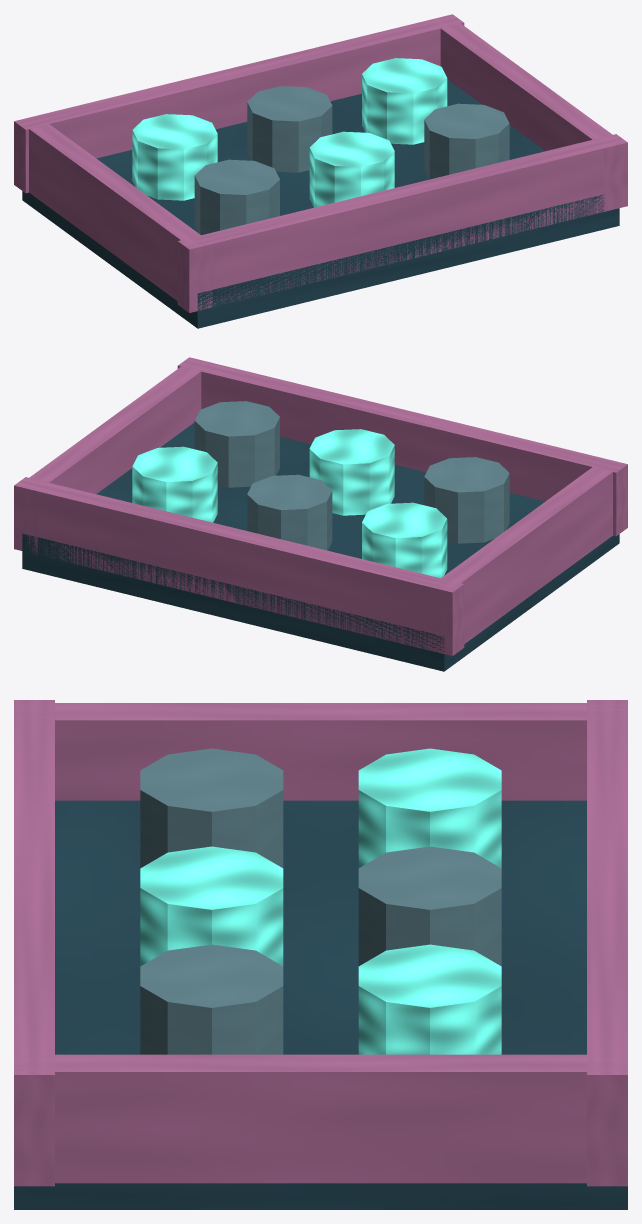
Rendered from atlas100-s061-a03.glb.
3 views of the same model, one above another, from view 1: azimuth 30°, elevation 25°; view 2: azimuth 150°, elevation 25°; view 3: azimuth 270°, elevation 25° (orthographic). The views are drawn at different scales.
Visible parts, largest first — view 1: atlas100-s061-a03:part-002, atlas100-s061-a03:part-000, atlas100-s061-a03:part-001, atlas100-s061-a03:part-003, atlas100-s061-a03:part-004, atlas100-s061-a03:part-005, atlas100-s061-a03:part-007, atlas100-s061-a03:part-006, atlas100-s061-a03:part-009, atlas100-s061-a03:part-010, atlas100-s061-a03:part-008; view 2: atlas100-s061-a03:part-001, atlas100-s061-a03:part-000, atlas100-s061-a03:part-002, atlas100-s061-a03:part-003, atlas100-s061-a03:part-004, atlas100-s061-a03:part-008, atlas100-s061-a03:part-010, atlas100-s061-a03:part-009, atlas100-s061-a03:part-006, atlas100-s061-a03:part-007, atlas100-s061-a03:part-005; view 3: atlas100-s061-a03:part-000, atlas100-s061-a03:part-004, atlas100-s061-a03:part-003, atlas100-s061-a03:part-001, atlas100-s061-a03:part-002, atlas100-s061-a03:part-007, atlas100-s061-a03:part-010, atlas100-s061-a03:part-005, atlas100-s061-a03:part-008, atlas100-s061-a03:part-006, atlas100-s061-a03:part-009.
Boxes of the visible parts, x1=… form: atlas100-s061-a03:part-002: x1=177, y1=134, x2=627, y2=312; atlas100-s061-a03:part-000: x1=22, y1=79, x2=619, y2=328; atlas100-s061-a03:part-001: x1=14, y1=14, x2=464, y2=193; atlas100-s061-a03:part-003: x1=29, y1=124, x2=212, y2=311; atlas100-s061-a03:part-004: x1=430, y1=15, x2=624, y2=211; atlas100-s061-a03:part-005: x1=132, y1=114, x2=217, y2=200; atlas100-s061-a03:part-007: x1=362, y1=58, x2=447, y2=144; atlas100-s061-a03:part-006: x1=247, y1=86, x2=332, y2=172; atlas100-s061-a03:part-009: x1=309, y1=131, x2=394, y2=207; atlas100-s061-a03:part-010: x1=424, y1=103, x2=509, y2=179; atlas100-s061-a03:part-008: x1=194, y1=159, x2=279, y2=235; atlas100-s061-a03:part-001: x1=14, y1=477, x2=464, y2=655; atlas100-s061-a03:part-000: x1=22, y1=422, x2=619, y2=671; atlas100-s061-a03:part-002: x1=177, y1=357, x2=627, y2=536; atlas100-s061-a03:part-003: x1=429, y1=467, x2=612, y2=654; atlas100-s061-a03:part-004: x1=17, y1=358, x2=211, y2=554; atlas100-s061-a03:part-008: x1=424, y1=457, x2=509, y2=543; atlas100-s061-a03:part-010: x1=194, y1=401, x2=279, y2=487; atlas100-s061-a03:part-009: x1=309, y1=429, x2=394, y2=515; atlas100-s061-a03:part-006: x1=247, y1=474, x2=332, y2=550; atlas100-s061-a03:part-007: x1=132, y1=446, x2=217, y2=522; atlas100-s061-a03:part-005: x1=362, y1=502, x2=447, y2=578; atlas100-s061-a03:part-000: x1=14, y1=800, x2=627, y2=1209; atlas100-s061-a03:part-004: x1=14, y1=1054, x2=627, y2=1183; atlas100-s061-a03:part-003: x1=14, y1=703, x2=627, y2=800; atlas100-s061-a03:part-001: x1=587, y1=700, x2=627, y2=1186; atlas100-s061-a03:part-002: x1=14, y1=700, x2=54, y2=1186; atlas100-s061-a03:part-007: x1=358, y1=944, x2=501, y2=1054; atlas100-s061-a03:part-010: x1=140, y1=944, x2=283, y2=1054; atlas100-s061-a03:part-005: x1=358, y1=748, x2=501, y2=868; atlas100-s061-a03:part-008: x1=140, y1=748, x2=283, y2=868; atlas100-s061-a03:part-006: x1=358, y1=846, x2=501, y2=966; atlas100-s061-a03:part-009: x1=140, y1=846, x2=283, y2=966.
Size of the model in its own units: 1.36 by 0.2563 by 0.9414.
4 materials, 4 textured.
